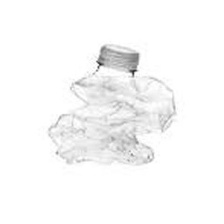bottle: (46, 41, 177, 174)
